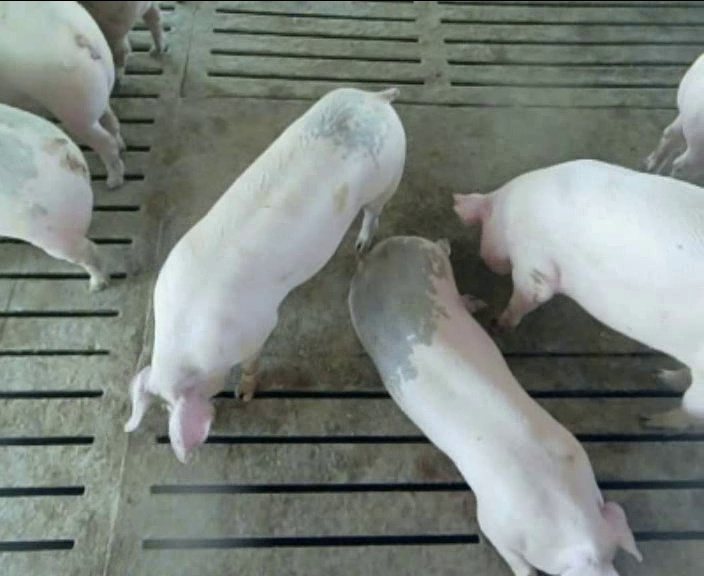pig: (127, 88, 404, 461), (349, 236, 639, 574), (454, 160, 703, 426)
